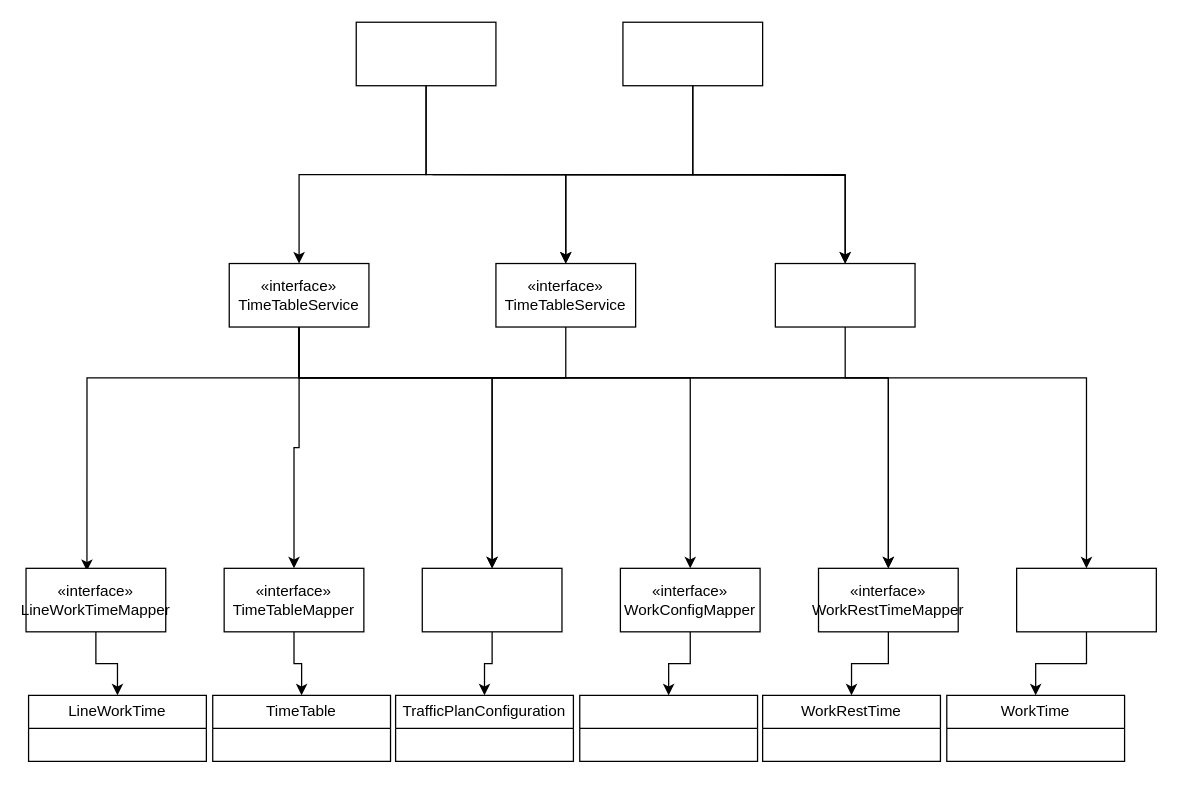
This 1179x787 diagram has some shape labels left out. The shapes that lost their labels are listed below. From the top down, each one's centre as x and y in pixels, then its label:
(425,53): «interface» NormalConfigurationController
(692,53): «interface» SchedulePlanController
(844,294): «interface» WorkRestTimeService
(491,599): «interface» TrafficPlanConfigurationMapper
(1085,599): «interface» WorkTimeMapper
(668,727): WorkConfig
